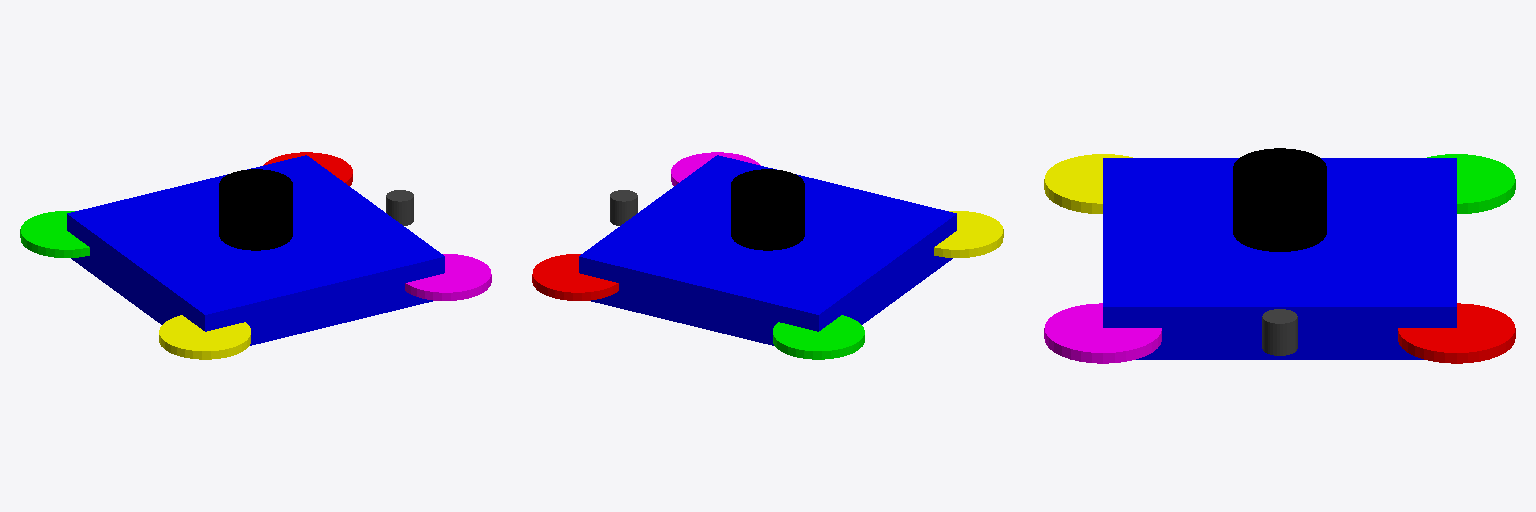
robot.urdf — quadrotor:
<?xml version="1.0"?>
<robot name="quadrotor">

  <!-- Base link -->
  <link name="base_link">
    <visual>
      <geometry><box size="0.3 0.3 0.05"/></geometry>
      <material name="blue"><color rgba="0 0 1 1"/></material>
    </visual>
    <collision><geometry><box size="0.3 0.3 0.05"/></geometry></collision>
    <inertial>
      <mass value="1.0"/>
      <origin xyz="0 0 0" rpy="0 0 0"/>
      <inertia ixx="0.01" iyy="0.01" izz="0.02" ixy="0" ixz="0" iyz="0"/>
    </inertial>
  </link>

  <!-- Propeller 1~4（ -->
  <link name="propeller_1">
    <visual><geometry><cylinder radius="0.05" length="0.01"/></geometry><material name="red"><color rgba="1 0 0 1"/></material></visual>
    <collision><geometry><cylinder radius="0.05" length="0.01"/></geometry></collision>
    <inertial><mass value="0.01"/><origin xyz="0 0 0"/><inertia ixx="0.0001" iyy="0.0001" izz="0.0002" ixy="0" ixz="0" iyz="0"/></inertial>
  </link>
  <link name="propeller_2">
    <visual><geometry><cylinder radius="0.05" length="0.01"/></geometry><material name="green"><color rgba="0 1 0 1"/></material></visual>
    <collision><geometry><cylinder radius="0.05" length="0.01"/></geometry></collision>
    <inertial><mass value="0.01"/><origin xyz="0 0 0"/><inertia ixx="0.0001" iyy="0.0001" izz="0.0002" ixy="0" ixz="0" iyz="0"/></inertial>
  </link>
  <link name="propeller_3">
    <visual><geometry><cylinder radius="0.05" length="0.01"/></geometry><material name="yellow"><color rgba="1 1 0 1"/></material></visual>
    <collision><geometry><cylinder radius="0.05" length="0.01"/></geometry></collision>
    <inertial><mass value="0.01"/><origin xyz="0 0 0"/><inertia ixx="0.0001" iyy="0.0001" izz="0.0002" ixy="0" ixz="0" iyz="0"/></inertial>
  </link>
  <link name="propeller_4">
    <visual><geometry><cylinder radius="0.05" length="0.01"/></geometry><material name="purple"><color rgba="1 0 1 1"/></material></visual>
    <collision><geometry><cylinder radius="0.05" length="0.01"/></geometry></collision>
    <inertial><mass value="0.01"/><origin xyz="0 0 0"/><inertia ixx="0.0001" iyy="0.0001" izz="0.0002" ixy="0" ixz="0" iyz="0"/></inertial>
  </link>

  <!-- LIDAR -->
  <link name="lidar_link">
    <visual><geometry><cylinder radius="0.04" length="0.06"/></geometry><material name="black"><color rgba="0 0 0 1"/></material></visual>
    <collision><geometry><cylinder radius="0.04" length="0.06"/></geometry></collision>
    <inertial><mass value="0.05"/><origin xyz="0 0 0"/><inertia ixx="0.0002" iyy="0.0002" izz="0.0001" ixy="0" ixz="0" iyz="0"/></inertial>
  </link>

  <!-- Ultrasonic -->
  <link name="ultrasonic_link">
    <visual>
      <geometry><cylinder radius="0.015" length="0.03"/></geometry>
      <material name="gray"><color rgba="0.3 0.3 0.3 1"/></material>
    </visual>
    <collision><geometry><cylinder radius="0.015" length="0.03"/></geometry></collision>
    <inertial><mass value="0.02"/><origin xyz="0 0 0"/><inertia ixx="5e-5" iyy="5e-5" izz="1e-4" ixy="0" ixz="0" iyz="0"/></inertial>
  </link>

  <!-- 关节 -->
  <joint name="base_to_propeller_1" type="continuous"><parent link="base_link"/><child link="propeller_1"/><origin xyz="0.15 0.15 0"/><axis xyz="0 0 1"/></joint>
  <joint name="base_to_propeller_2" type="continuous"><parent link="base_link"/><child link="propeller_2"/><origin xyz="-0.15 0.15 0"/><axis xyz="0 0 1"/></joint>
  <joint name="base_to_propeller_3" type="continuous"><parent link="base_link"/><child link="propeller_3"/><origin xyz="-0.15 -0.15 0"/><axis xyz="0 0 1"/></joint>
  <joint name="base_to_propeller_4" type="continuous"><parent link="base_link"/><child link="propeller_4"/><origin xyz="0.15 -0.15 0"/><axis xyz="0 0 1"/></joint>

 
  <joint name="base_to_lidar" type="fixed"><parent link="base_link"/><child link="lidar_link"/><origin xyz="0 0 0.055"/></joint>
 
  <joint name="base_to_ultrasonic" type="fixed"><parent link="base_link"/><child link="ultrasonic_link"/><origin xyz="0.18 0 0.015" rpy="0 0 0"/></joint>

  <!-- ===================== Gazebo ：LIDAR ===================== -->
  <gazebo reference="lidar_link">
    <sensor name="lidar_sensor" type="ray">
      <always_on>true</always_on>
      <update_rate>15</update_rate>
      <visualize>true</visualize>
      <pose>0 0 0 0 0 0</pose>

      <!-- 横向 270 度，1080 线 -->
      <ray>
        <scan>
          <horizontal>
            <samples>1080</samples>
            <resolution>1</resolution>
            <min_angle>-2.35619</min_angle>  <!-- -135° -->
            <max_angle> 2.35619</max_angle>  <!-- +135° -->
          </horizontal>
        </scan>
        <range>
          <min>0.12</min>
          <max>12.0</max>
          <resolution>0.01</resolution>
        </range>
        <noise>
          <type>gaussian</type>
          <mean>0.0</mean>
          <stddev>0.01</stddev>
        </noise>
      </ray>

      
      <plugin name="lidar_ros" filename="libgazebo_ros_ray_sensor.so">
        <ros>
          <namespace>/lidar</namespace>
        </ros>
        <frame_name>lidar_link</frame_name>
        <output_type>sensor_msgs/LaserScan</output_type>
        <topic>scan</topic>
      </plugin>
    </sensor>
  </gazebo>

  <!-- ================== Gazebo ：Ultrasonic ================== -->
  <gazebo reference="ultrasonic_link">
    <sensor name="ultrasonic_sensor" type="ray">
      <always_on>true</always_on>
      <update_rate>20</update_rate>
      <visualize>false</visualize>
      <pose>0 0 0 0 0 0</pose>

     
      <ray>
        <scan>
          <horizontal>
            <samples>5</samples>
            <resolution>1</resolution>
            <min_angle>-0.0872665</min_angle> <!-- -5° -->
            <max_angle> 0.0872665</max_angle> <!-- +5° -->
          </horizontal>
        </scan>
        <range>
          <min>0.02</min>
          <max>3.0</max>
          <resolution>0.005</resolution>
        </range>
        <noise>
          <type>gaussian</type>
          <mean>0.0</mean>
          <stddev>0.01</stddev>
        </noise>
      </ray>

      <!-- ROS2 LaserScan（/ultrasonic/scan） -->
      <plugin name="ultrasonic_ros" filename="libgazebo_ros_ray_sensor.so">
        <ros>
          <namespace>/ultrasonic</namespace>
        </ros>
        <frame_name>ultrasonic_link</frame_name>
        <output_type>sensor_msgs/LaserScan</output_type>
        <topic>scan</topic>
      </plugin>
    </sensor>
  </gazebo>

<gazebo>
  <plugin name="planar_move" filename="libgazebo_ros_planar_move.so">
    <ros>
      <namespace>/</namespace>
    </ros>
    <command_topic>/cmd_vel</command_topic>
    <odometry_frame>odom</odometry_frame>
    <odometry_topic>odom</odometry_topic>
    <robot_base_frame>base_link</robot_base_frame>
    <publish_odom>true</publish_odom>
    <update_rate>50</update_rate>
  </plugin>
</gazebo>

</robot>

--- What the picture shows (computed from the rendered views, not written in the file) ---
Views: 3 orthographic renders of the robot side by side, from view 1: azimuth 30°, elevation 25°; view 2: azimuth 150°, elevation 25°; view 3: azimuth 270°, elevation 25°.
Model quadrotor with 7 links and 6 joints (4 continuous, 2 fixed), rooted at base_link, posed every joint at zero.
Visible links, largest first — view 1: base_link, lidar_link, propeller_3, propeller_4, propeller_2, propeller_1, ultrasonic_link; view 2: base_link, lidar_link, propeller_2, propeller_1, propeller_3, propeller_4, ultrasonic_link; view 3: base_link, lidar_link, propeller_1, propeller_4, propeller_2, propeller_3, ultrasonic_link.
Link boxes in pixels (<box>): base_link: <box>67,155,444,345</box>; lidar_link: <box>219,169,292,250</box>; propeller_3: <box>159,315,250,359</box>; propeller_4: <box>405,254,491,300</box>; propeller_2: <box>20,211,89,257</box>; propeller_1: <box>263,152,352,185</box>; ultrasonic_link: <box>386,190,413,225</box>; base_link: <box>579,155,956,345</box>; lidar_link: <box>731,169,804,250</box>; propeller_2: <box>773,315,864,359</box>; propeller_1: <box>532,254,618,300</box>; propeller_3: <box>934,211,1003,257</box>; propeller_4: <box>671,152,760,185</box>; ultrasonic_link: <box>610,190,637,225</box>; base_link: <box>1103,158,1456,359</box>; lidar_link: <box>1233,148,1326,251</box>; propeller_1: <box>1398,303,1515,363</box>; propeller_4: <box>1044,303,1161,363</box>; propeller_2: <box>1427,154,1515,213</box>; propeller_3: <box>1044,154,1132,213</box>; ultrasonic_link: <box>1262,309,1297,355</box>.
Size in the robot's own frame: 0.4 by 0.4 by 0.11 metres.
Geometry: primitives only (box / cylinder / sphere), no mesh files.
